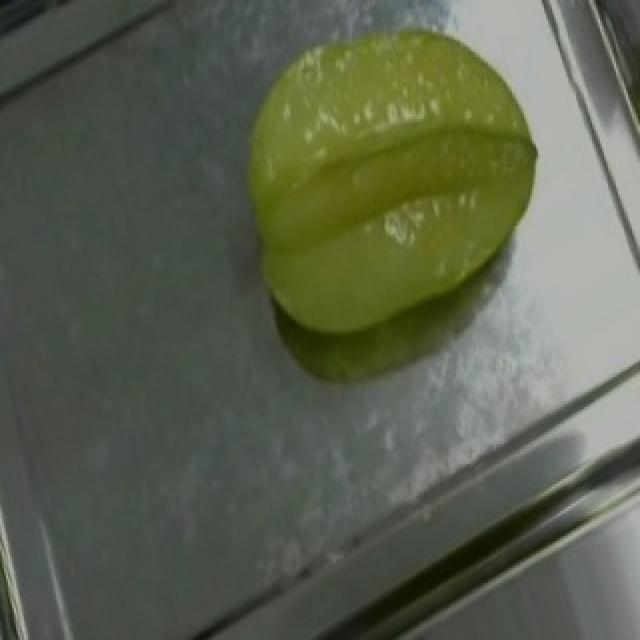fruit: (150, 0, 590, 392)
